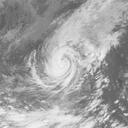cyclone: (29, 34, 95, 92)
